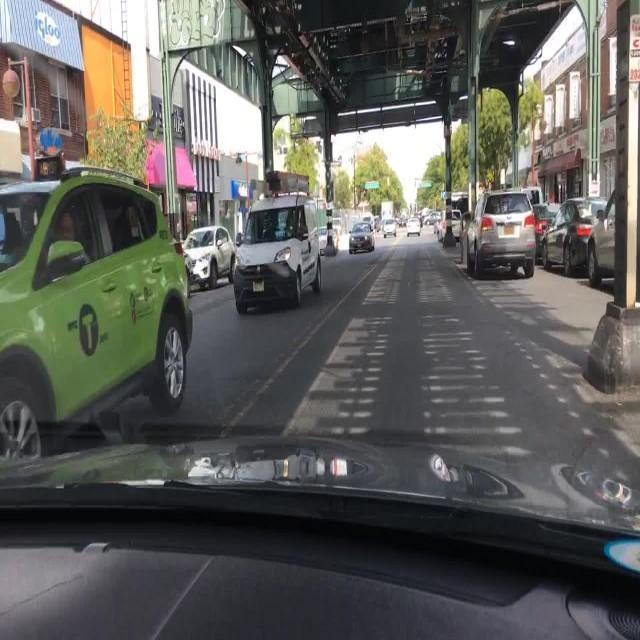normal: (4, 164, 197, 502), (231, 194, 322, 315), (458, 186, 538, 277), (541, 197, 602, 276), (182, 226, 236, 290), (436, 208, 464, 244), (349, 222, 375, 253), (317, 226, 337, 257), (378, 218, 395, 237), (407, 218, 423, 235)
